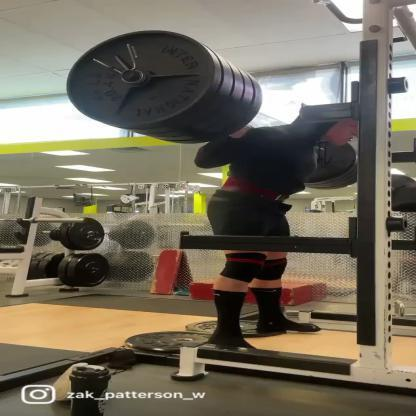barbell: (64, 27, 368, 192)
